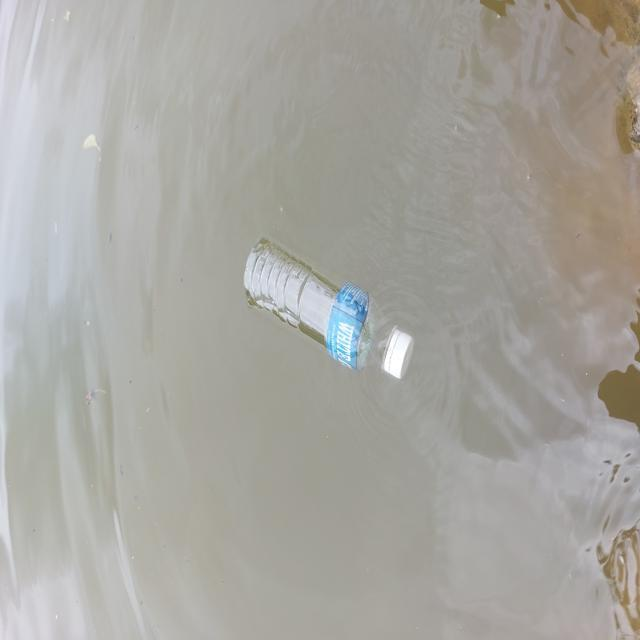waterbottle: (233, 229, 424, 411)
